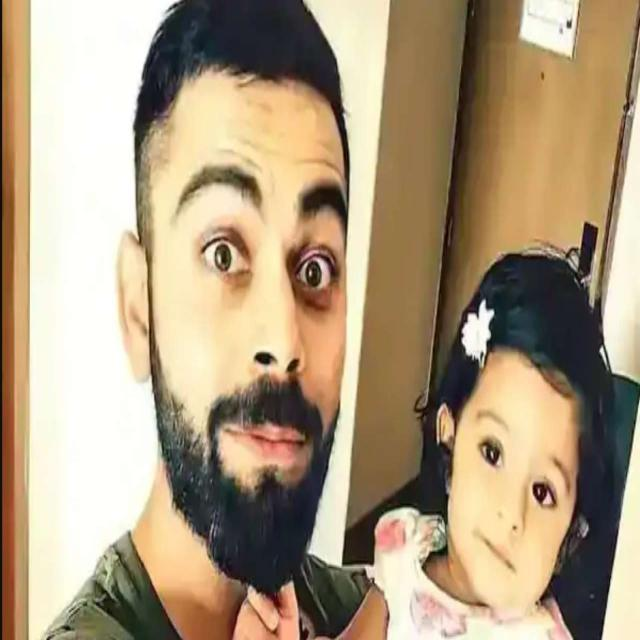non-dog: (28, 3, 370, 630), (356, 236, 623, 633)
